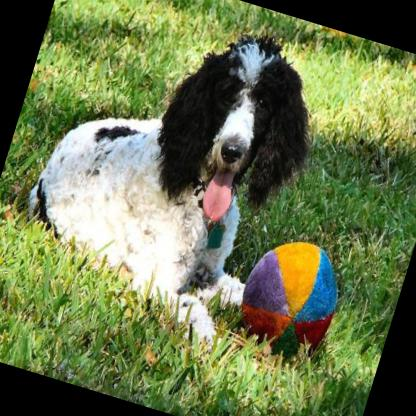standard_poodle: (0, 0, 339, 356)
